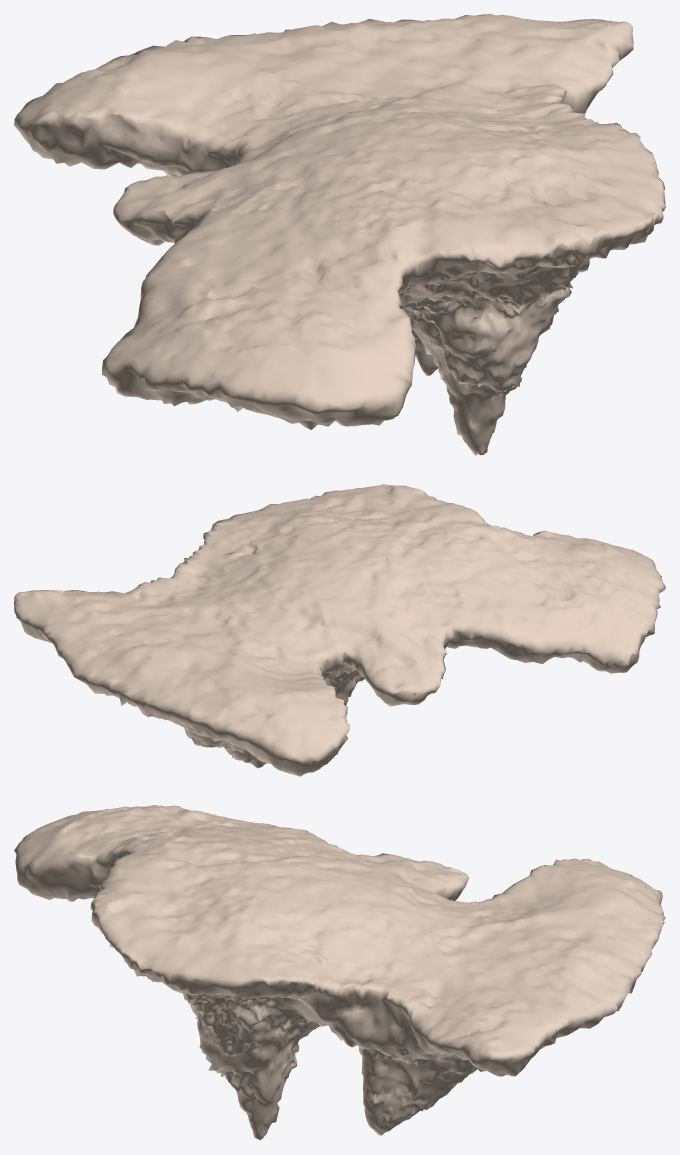
Rendered from ZweiteInselGuteUVs.fbx.
3 views of the same model, one above another, from view 1: azimuth 30°, elevation 25°; view 2: azimuth 150°, elevation 25°; view 3: azimuth 270°, elevation 25° (orthographic). The views are drawn at different scales.
Parts seen in each view (by area): view 1: sphere_Copy; view 2: sphere_Copy; view 3: sphere_Copy.
Boxes of the visible parts, <box> form: sphere_Copy: <box>14,14,665,455</box>; sphere_Copy: <box>14,484,665,776</box>; sphere_Copy: <box>14,805,665,1140</box>.
Size of the model in its own units: 1209 by 507 by 1227.
